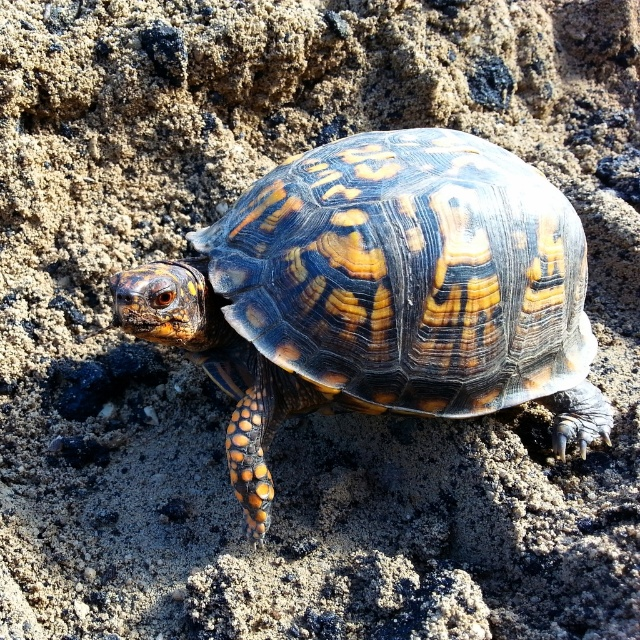Tortoise: (109, 128, 614, 553)
